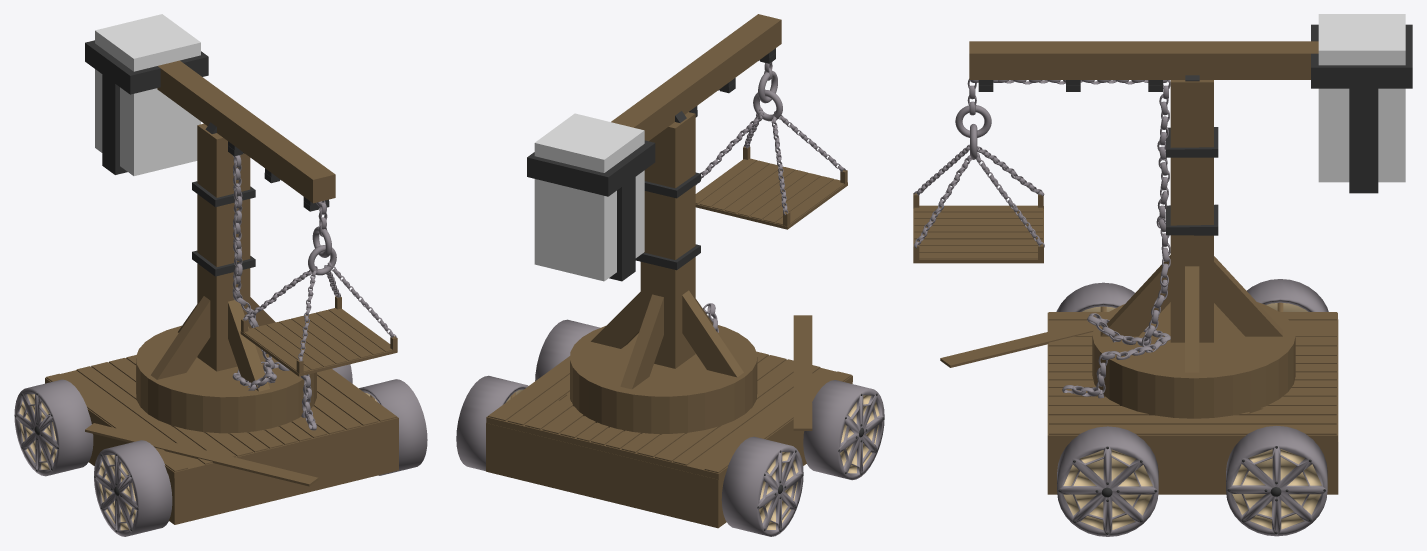
The model's file is port_crane.fbx.
3 views of the same model, side by side, from view 1: azimuth 30°, elevation 25°; view 2: azimuth 150°, elevation 25°; view 3: azimuth 270°, elevation 25° (orthographic). The views are drawn at different scales.
Parts seen in each view (by area): view 1: crane; view 2: crane; view 3: crane.
Boxes of the visible parts, x1,y1,x2,y2 form: crane: [14, 14, 427, 536]; crane: [456, 14, 884, 536]; crane: [913, 14, 1412, 536].
Size of the model in its own units: 263 by 324 by 344.
